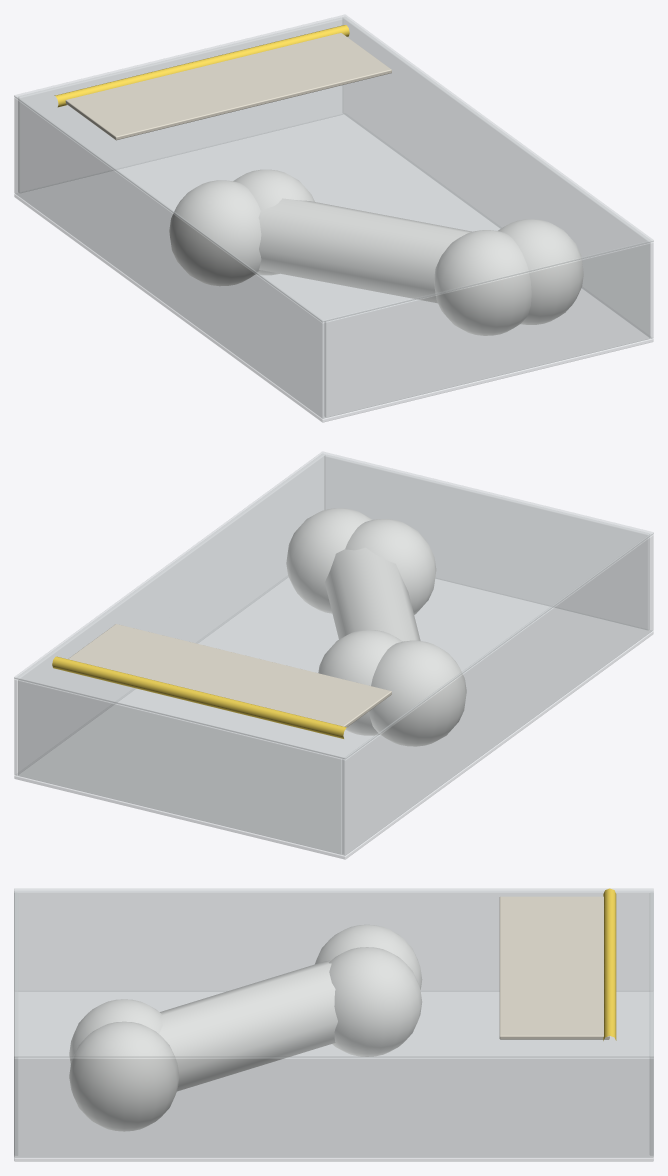
The model's file is paranormal-investigation-house-bone-evidence-bag-34e19aff__26831.glb.
3 renders of one model, top to bottom at view 1: azimuth 30°, elevation 25°; view 2: azimuth 150°, elevation 25°; view 3: azimuth 270°, elevation 25°, orthographic. The views are drawn at different scales.
Parts seen in each view (by area): view 1: bone-evidence-bag; view 2: bone-evidence-bag; view 3: bone-evidence-bag.
Part boxes in pixels (box(x1,y1,x2,y2)): bone-evidence-bag: box(14, 14, 653, 422); bone-evidence-bag: box(14, 451, 653, 859); bone-evidence-bag: box(14, 888, 653, 1161).
Size of the model in its own units: 0.18 by 0.058 by 0.29.
